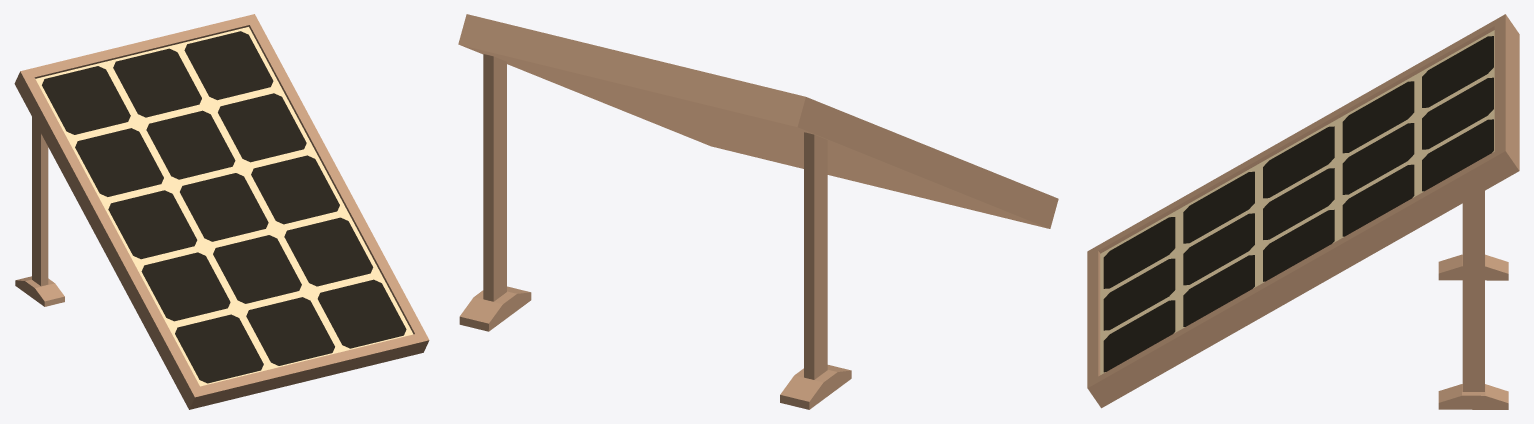
Rendered from quaternius-ultimate-space-solar-panel-ground-transformed.glb.
The picture shows the model from 3 angles, left to right: view 1: azimuth 30°, elevation 25°; view 2: azimuth 150°, elevation 25°; view 3: azimuth 270°, elevation 25°; orthographic projection. The views are drawn at different scales.
Visible parts, largest first — view 1: SolarPanel_Ground; view 2: SolarPanel_Ground; view 3: SolarPanel_Ground.
Boxes of the visible parts, x1=… form: SolarPanel_Ground: x1=14, y1=14, x2=429, y2=409; SolarPanel_Ground: x1=458, y1=14, x2=1058, y2=409; SolarPanel_Ground: x1=1087, y1=14, x2=1519, y2=409.
Bounding box in the file's own units: 1.29 × 1.1 × 1.67.
Materials: 1 (1 with a texture image).
